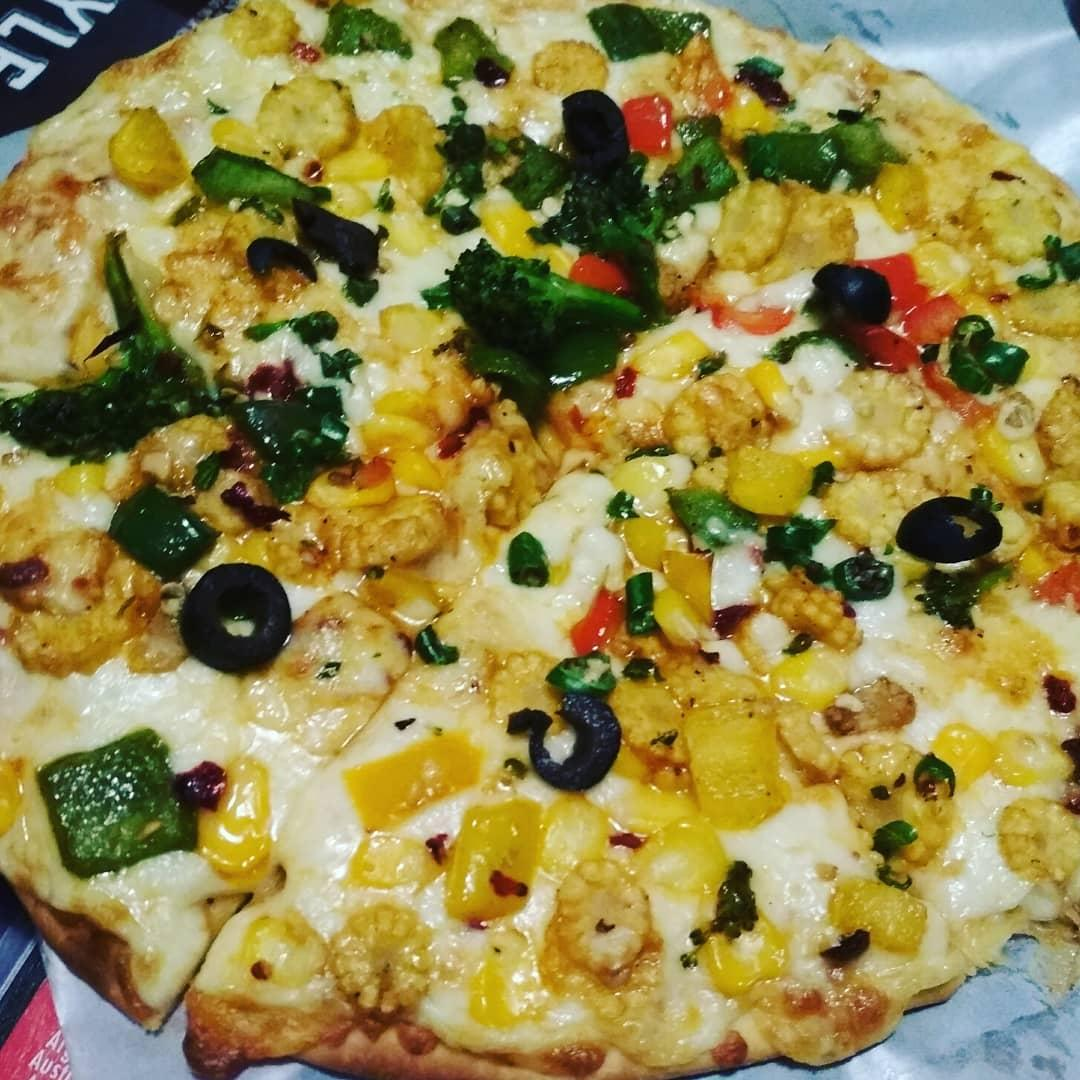Broccoli: (5, 234, 213, 465), (437, 243, 621, 394), (529, 157, 668, 298), (191, 145, 322, 210), (321, 3, 406, 61), (425, 23, 512, 78)
Corn: (821, 867, 929, 953), (465, 929, 557, 1027), (193, 761, 274, 868), (633, 821, 728, 908), (761, 635, 846, 716), (697, 917, 789, 988), (107, 113, 185, 192), (245, 905, 322, 985), (727, 445, 812, 517), (299, 455, 400, 514), (541, 795, 614, 874), (345, 831, 437, 890), (973, 415, 1044, 489), (993, 733, 1073, 792), (711, 79, 780, 138), (929, 721, 986, 792), (629, 331, 709, 380), (749, 357, 802, 429), (613, 791, 694, 838), (349, 413, 437, 456), (209, 117, 286, 166), (479, 201, 540, 258), (373, 385, 465, 420), (317, 149, 404, 185), (917, 237, 973, 292)
Olives: (177, 561, 298, 682), (245, 205, 378, 293), (517, 689, 624, 790), (893, 493, 1016, 558), (553, 93, 632, 173), (811, 253, 886, 328)
Peppers: (677, 687, 796, 832), (39, 741, 180, 854), (449, 803, 542, 920), (237, 395, 336, 492), (363, 733, 476, 816), (665, 119, 738, 212), (591, 7, 722, 50), (753, 129, 841, 182), (947, 317, 1014, 381), (869, 251, 920, 304), (909, 293, 957, 342)
Pizza: (0, 0, 1080, 1077)
